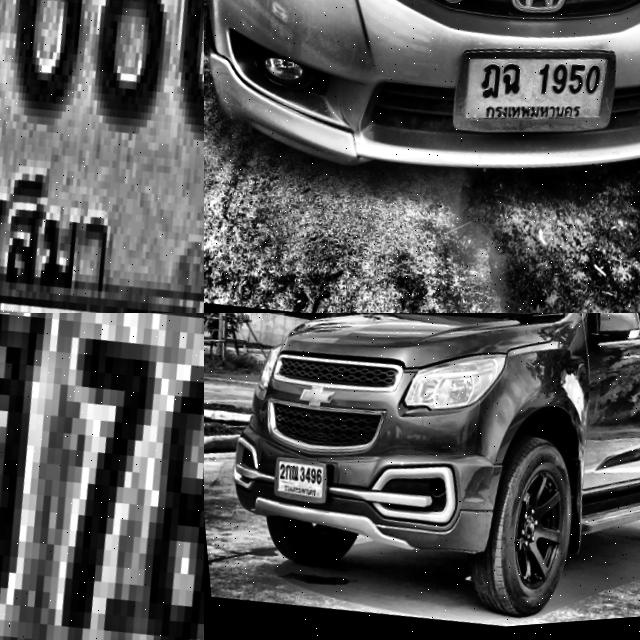license-plate: (0, 313, 204, 640), (0, 0, 204, 313), (433, 28, 620, 167), (258, 451, 326, 511)
